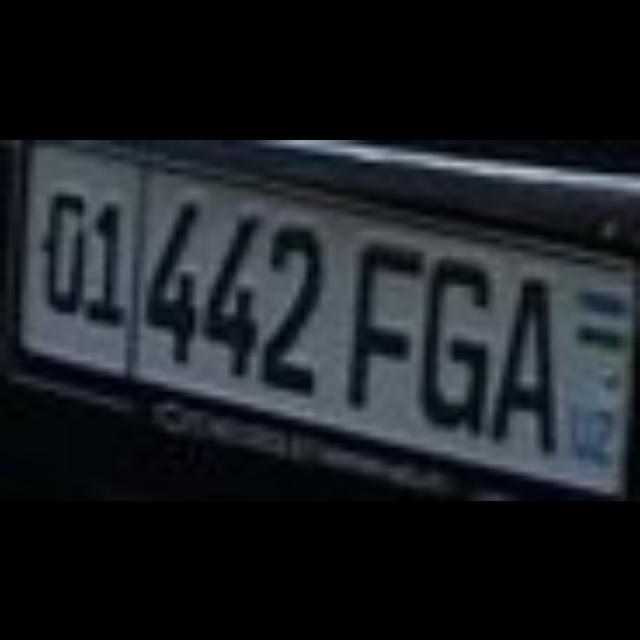0: (28, 180, 76, 306)
1: (76, 194, 118, 320)
2: (250, 215, 314, 389)
4: (132, 195, 188, 355), (195, 209, 251, 369)
A: (486, 271, 550, 445)
F: (340, 236, 418, 404)
G: (418, 250, 480, 432)
